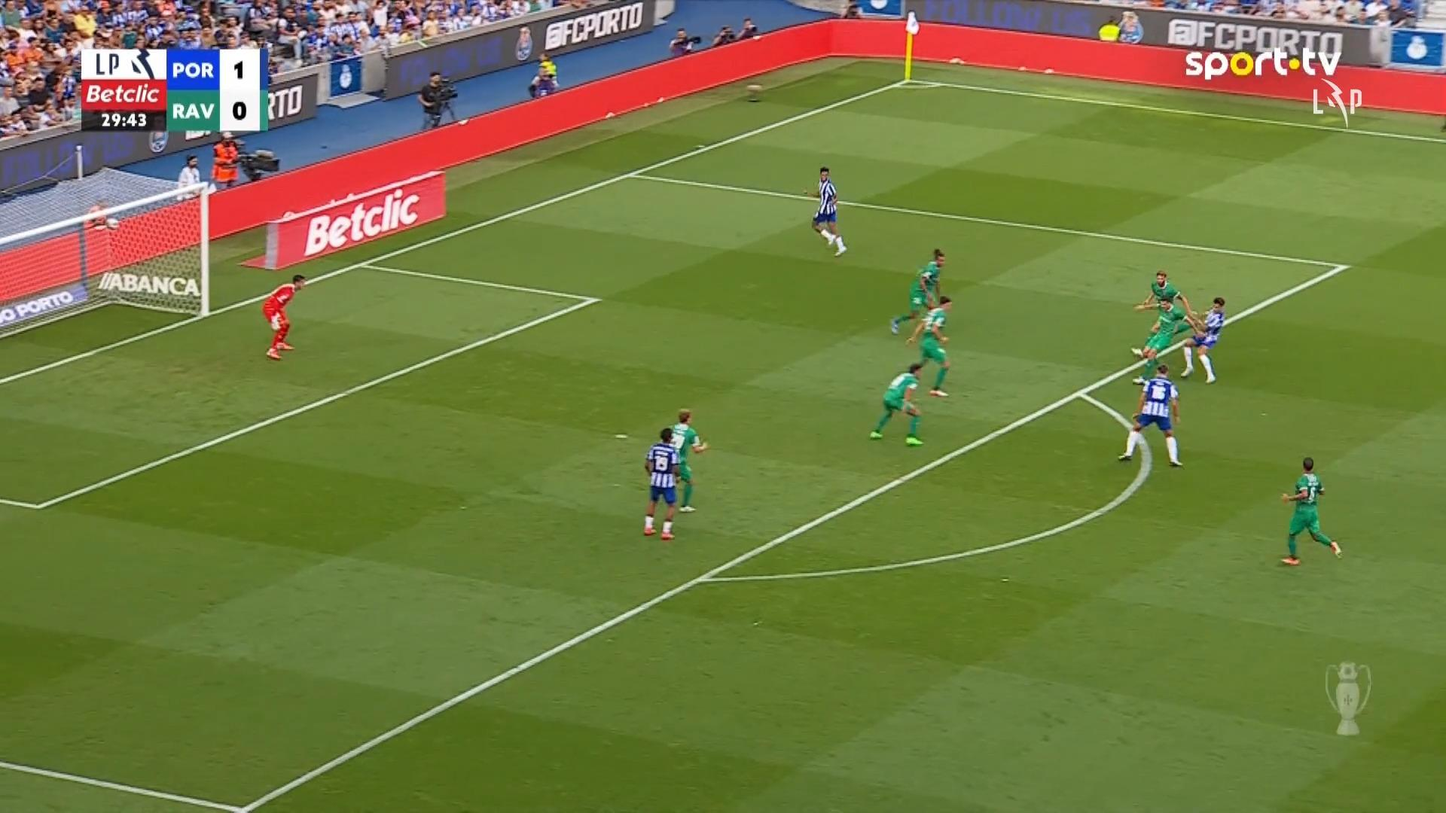ball: (1130, 342, 1144, 357)
goalkeeper: (261, 273, 307, 360)
player: (1279, 455, 1342, 565), (1117, 363, 1183, 467), (1129, 294, 1203, 384), (889, 248, 946, 335), (905, 294, 953, 397), (868, 362, 924, 446), (642, 426, 683, 540), (1132, 269, 1201, 336), (802, 166, 847, 257), (670, 408, 709, 512), (1179, 295, 1225, 383)
